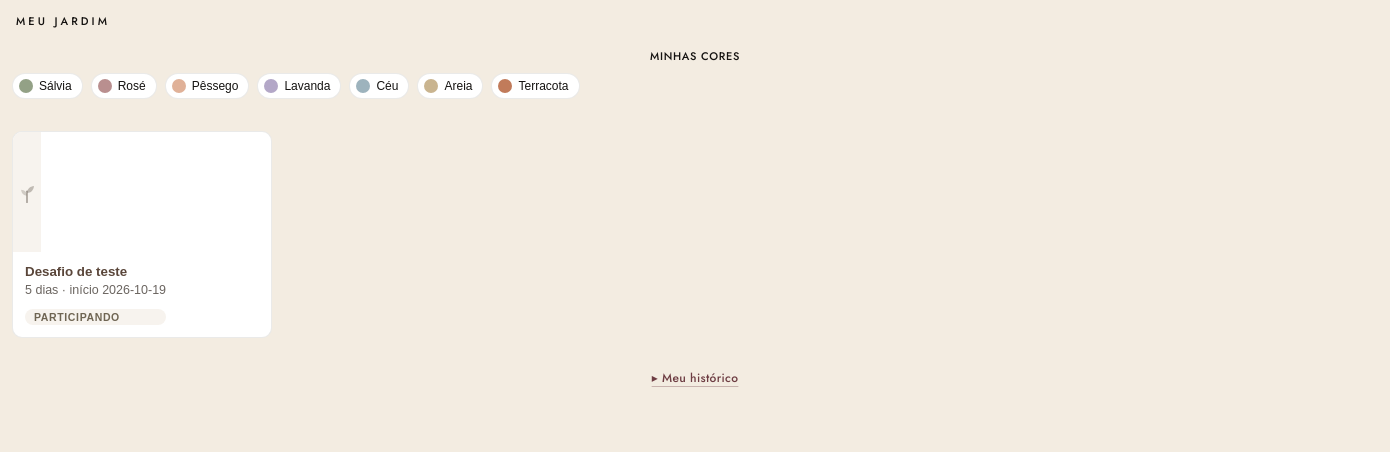
Test: GardenMemberView — Item 4: roda de progresso (dados ao vivo) › estado inicial honesto da jornada quando não há nenhuma conclusão acumulada além da atual
The width and height of the screenshot is (1390, 452).
Click the text "Desafio de teste" at (76, 272), box [25,264,127,279]
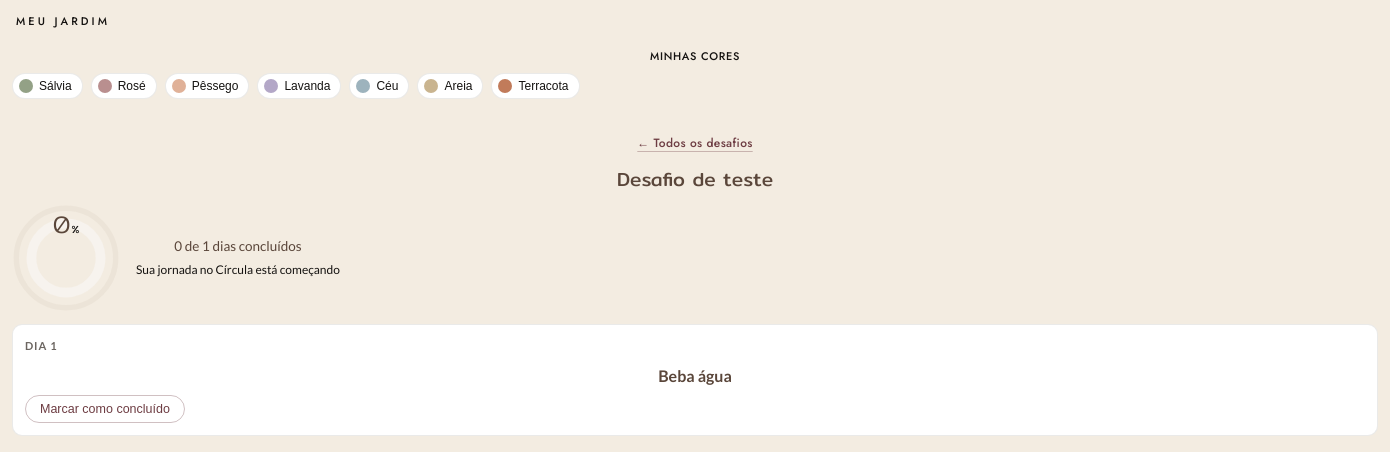
Now the text "Sua jornada no Círcula está começando" is shown, box [136,260,340,280]
